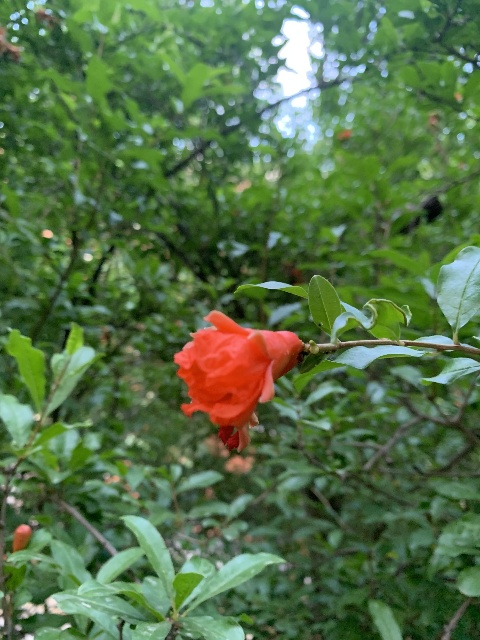bud: (11, 523, 31, 552)
flower: (173, 310, 303, 451)
